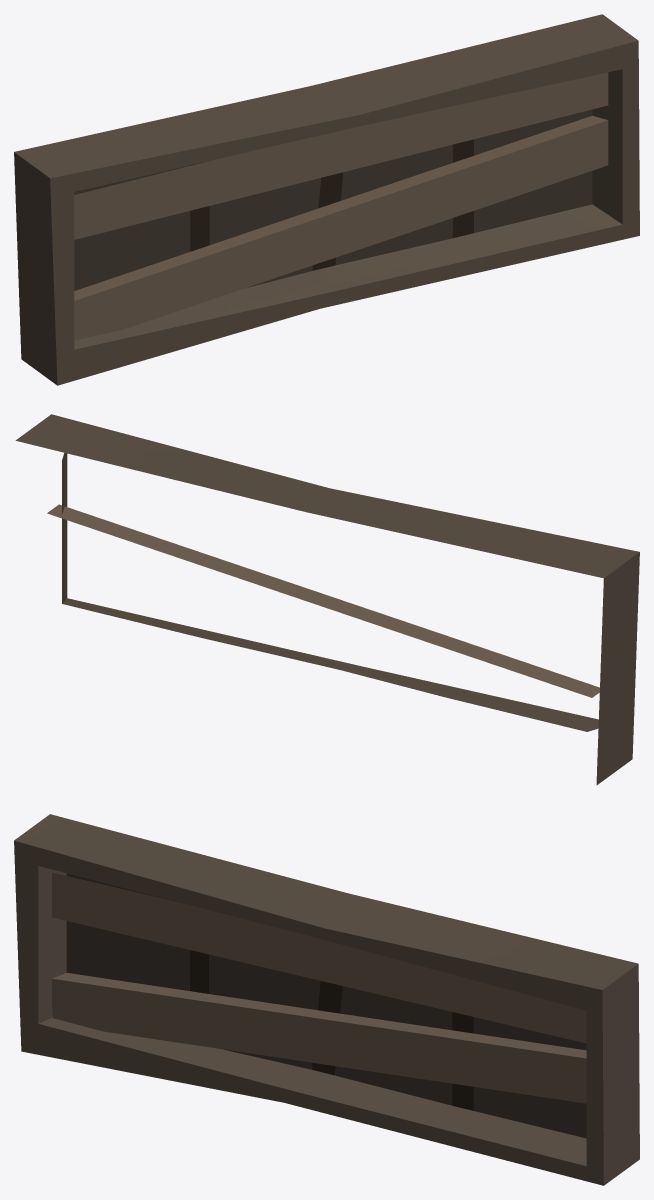
Rendered from SM_Prop_Shanty_BuildingAttachment_01.glb.
3 views of the same model, one above another, from view 1: azimuth 30°, elevation 25°; view 2: azimuth 150°, elevation 25°; view 3: azimuth 330°, elevation 25° (orthographic).
Parts seen in each view (by area): view 1: SM_Prop_Shanty_BuildingAttachment_01; view 2: SM_Prop_Shanty_BuildingAttachment_01; view 3: SM_Prop_Shanty_BuildingAttachment_01.
Boxes of the visible parts, x1,y1,x2,y2 form: SM_Prop_Shanty_BuildingAttachment_01: (14,14,639,385); SM_Prop_Shanty_BuildingAttachment_01: (15,414,639,785); SM_Prop_Shanty_BuildingAttachment_01: (14,814,639,1185).
Size of the model in its own units: 0.0235 by 0.00797 by 0.0025.
